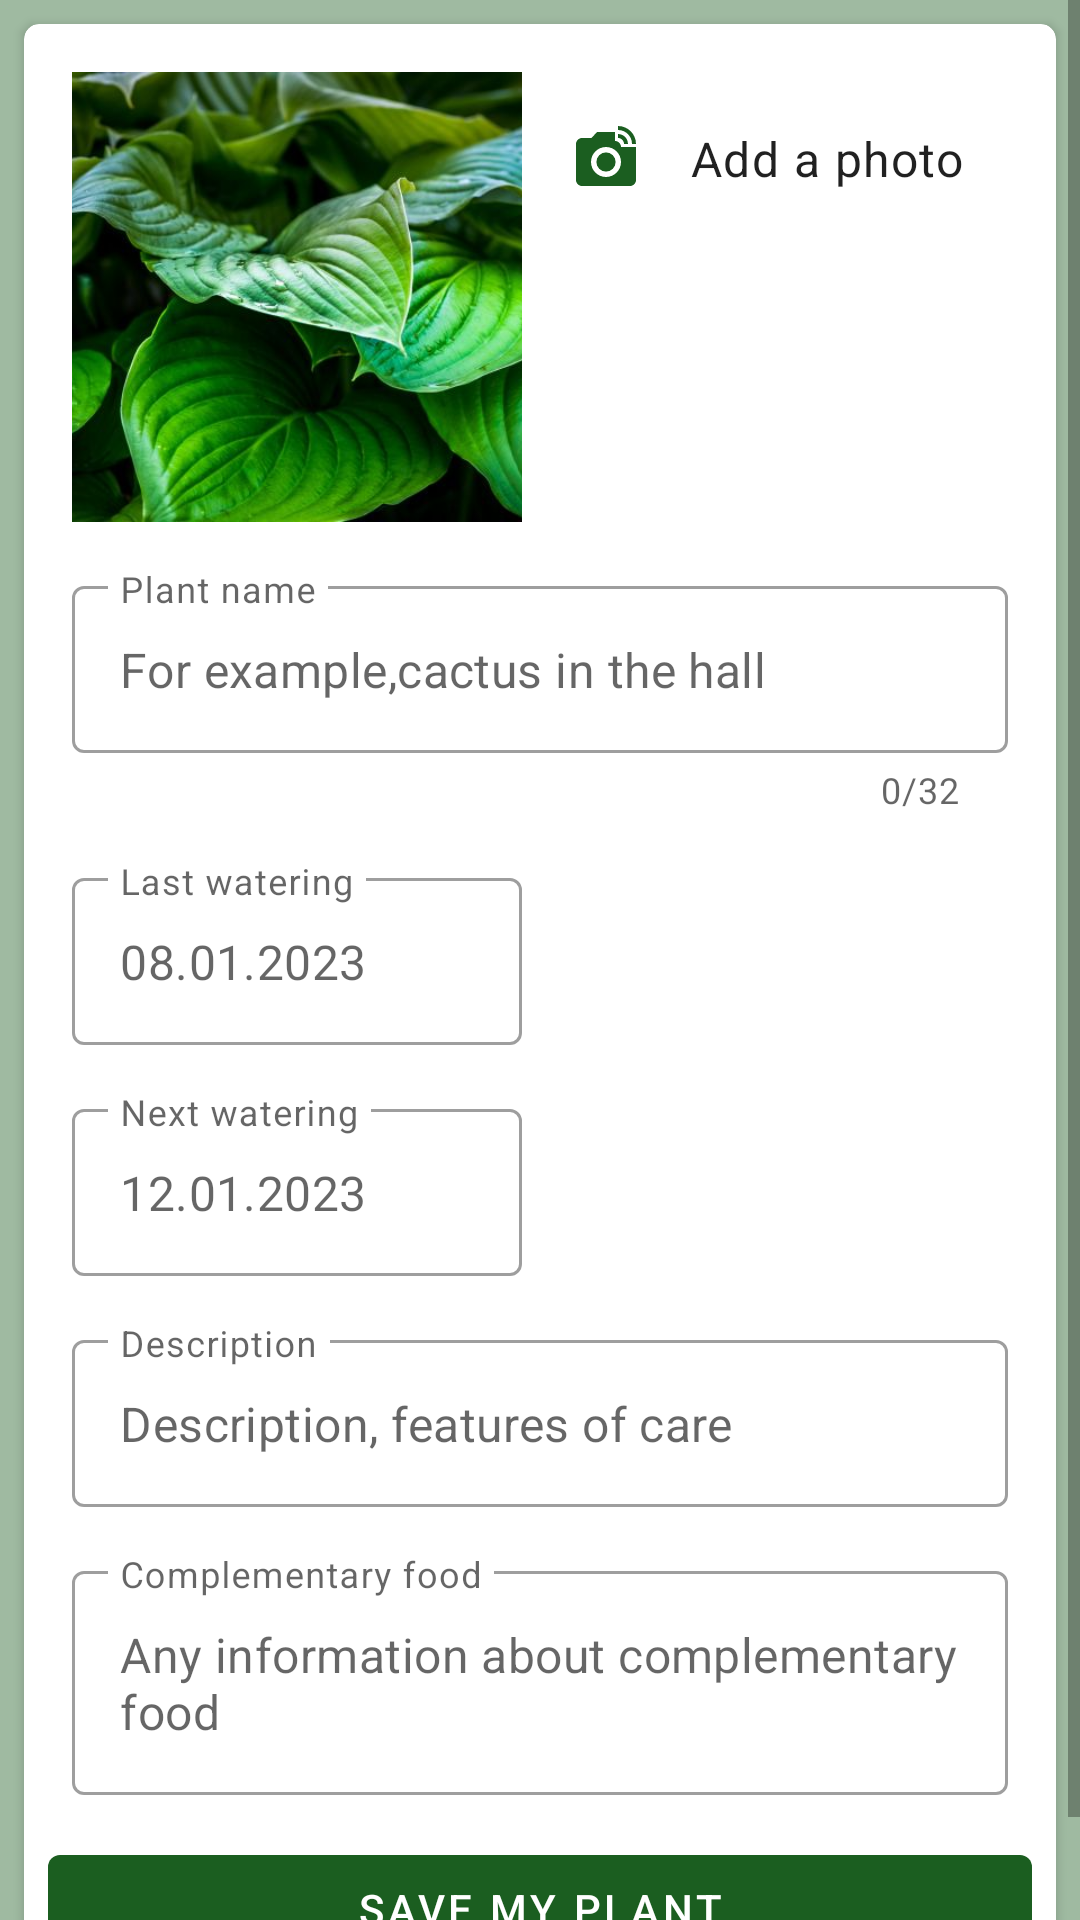

Icon bounding boxes for this 1080w x 1920h phone screenshot, format bbox(x1, y1, x2, y2):
camera: bbox(576, 126, 636, 186)
